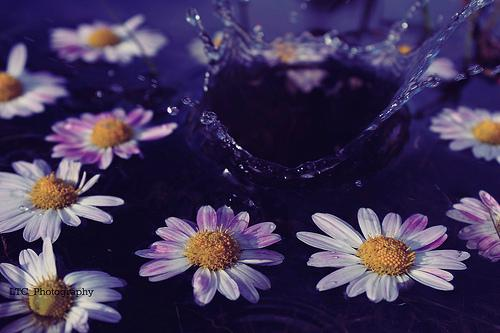daisy: (296, 208, 472, 306), (135, 205, 288, 309), (1, 237, 128, 333), (1, 159, 129, 248), (45, 107, 180, 172), (53, 15, 171, 66), (1, 42, 71, 122), (428, 101, 500, 165), (444, 190, 500, 268), (370, 42, 463, 85), (181, 32, 251, 68), (258, 41, 327, 70)
